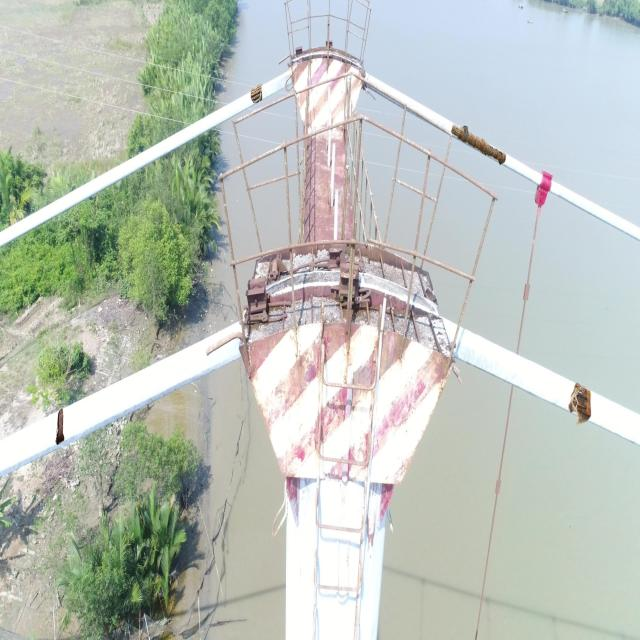corrosion: (451, 120, 506, 165), (568, 381, 592, 428), (56, 408, 65, 444), (250, 82, 263, 104)
